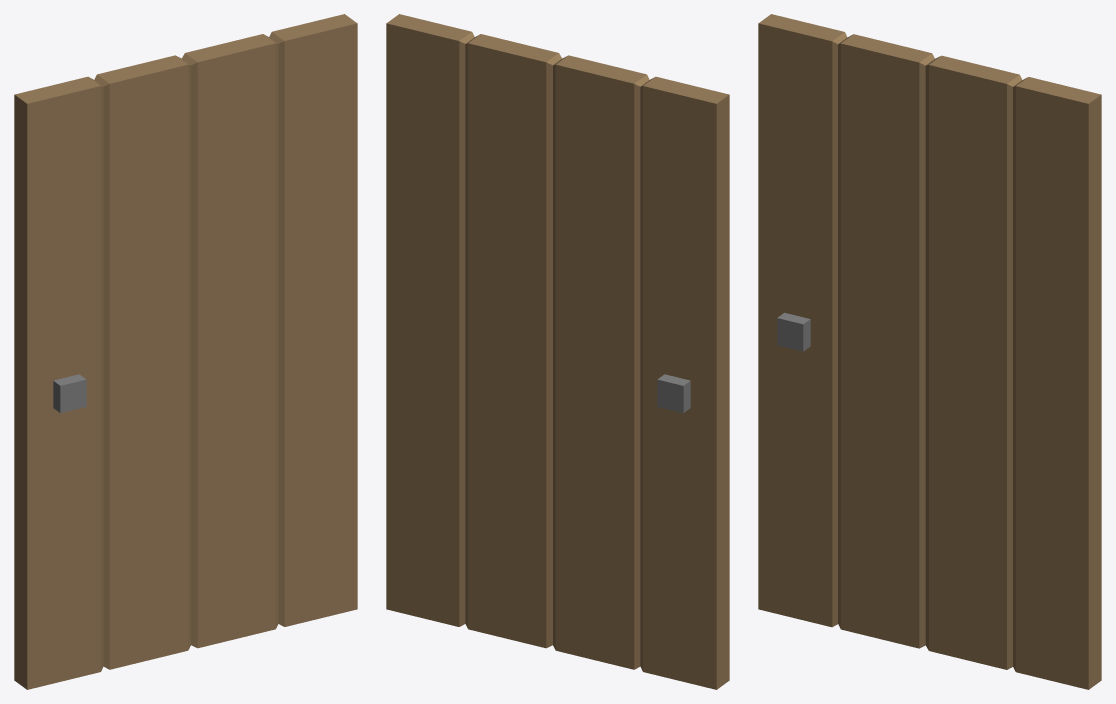
The model's file is SM_Tower_01_Door_C.fbx.
3 renders of one model, left to right at view 1: azimuth 30°, elevation 25°; view 2: azimuth 150°, elevation 25°; view 3: azimuth 330°, elevation 25°, orthographic.
Visible parts, largest first — view 1: pCube702; view 2: pCube702; view 3: pCube702.
Boxes of the visible parts, left/top/right/bottom form: pCube702: left=14, top=14, right=357, bottom=689; pCube702: left=386, top=14, right=729, bottom=689; pCube702: left=758, top=14, right=1101, bottom=689.
Size of the model in its own units: 136 by 231 by 19.53.
1 material, 1 textured.
